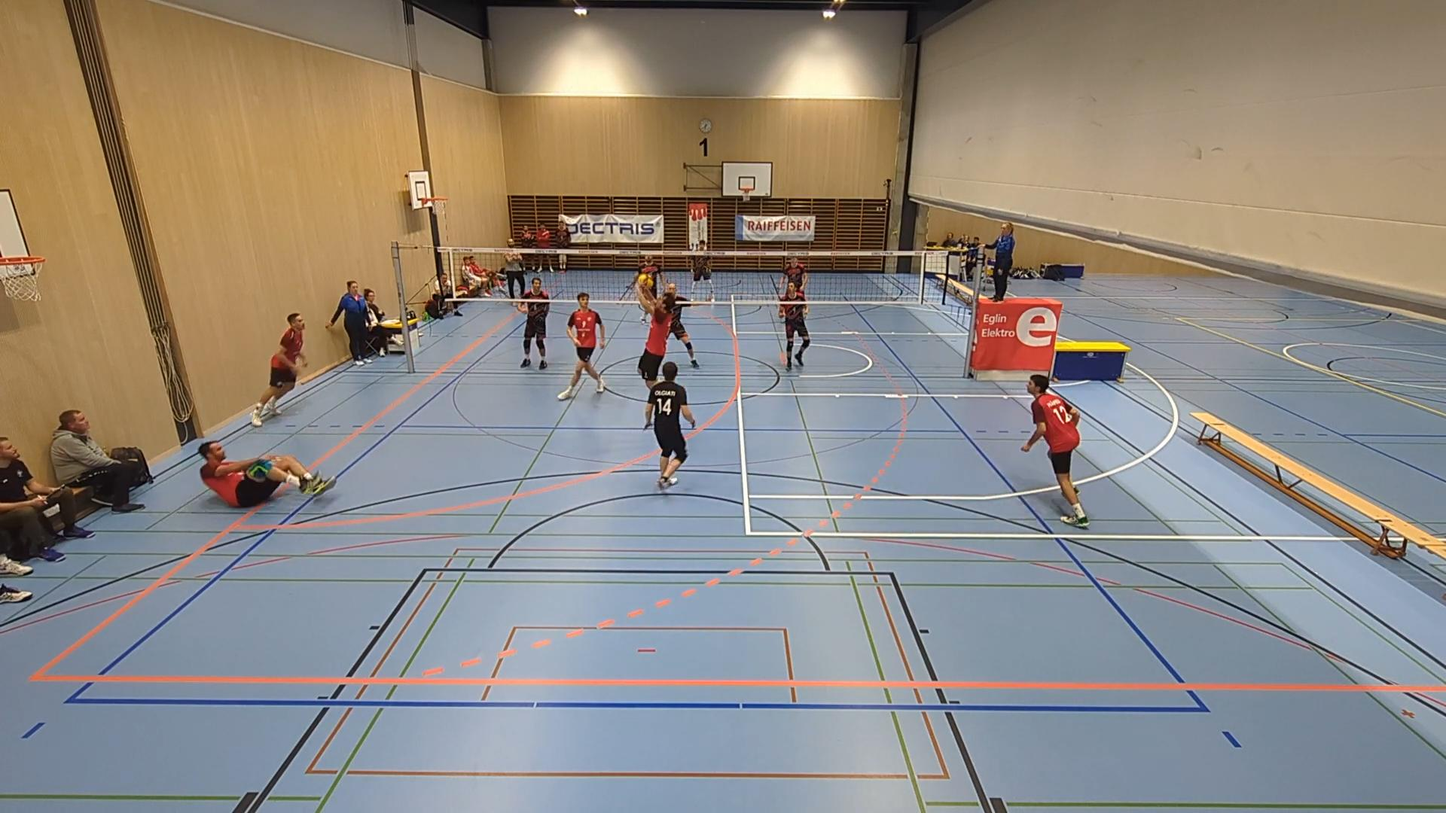Player: (1022, 375, 1088, 528), (198, 442, 334, 507), (645, 362, 696, 488), (250, 313, 306, 427), (557, 293, 605, 400), (665, 283, 699, 368), (518, 278, 549, 369), (779, 282, 809, 370), (634, 257, 660, 323), (690, 254, 713, 300), (783, 257, 808, 292)
Set: (631, 281, 682, 403)
ball: (636, 273, 649, 288)
